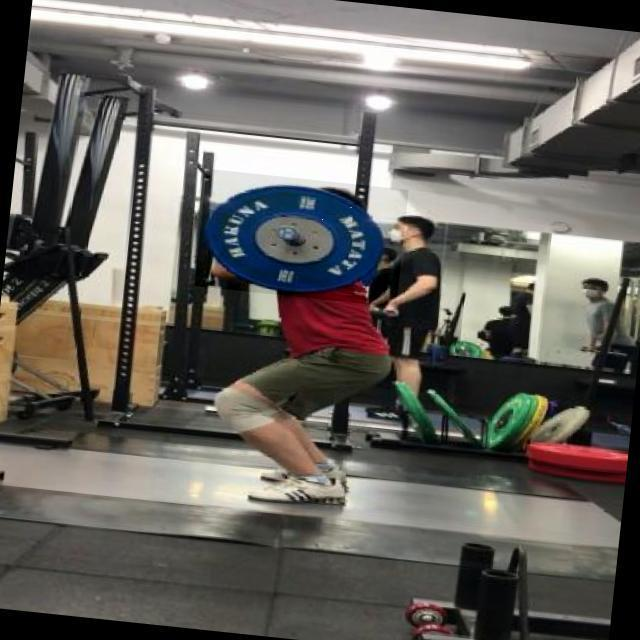barbell: (195, 169, 409, 308)
